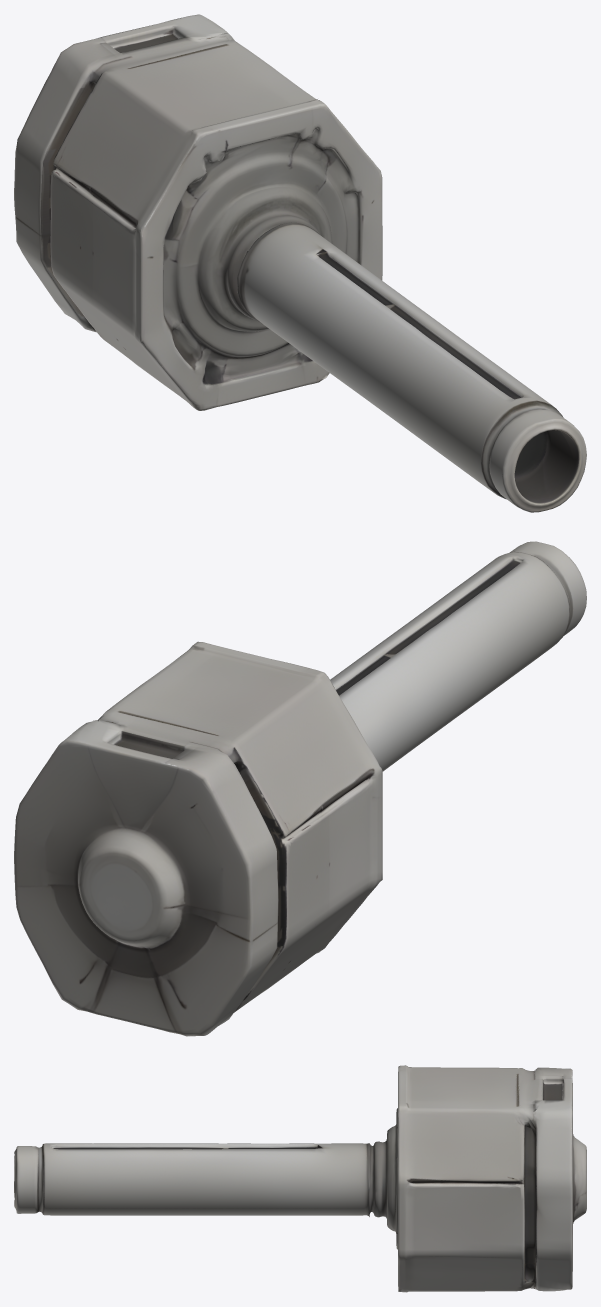
File: selected.glb
3 renders of one model, top to bottom at view 1: azimuth 30°, elevation 25°; view 2: azimuth 150°, elevation 25°; view 3: azimuth 270°, elevation 25°, orthographic. The views are drawn at different scales.
Parts seen in each view (by area): view 1: model; view 2: model; view 3: model.
Part boxes in pixels (<box>): model: <box>14,14,586,512</box>; model: <box>14,541,586,1036</box>; model: <box>14,1065,586,1292</box>.
Size of the model in its own units: 0.6221 by 0.6834 by 1.9.
1 material, 1 textured.
